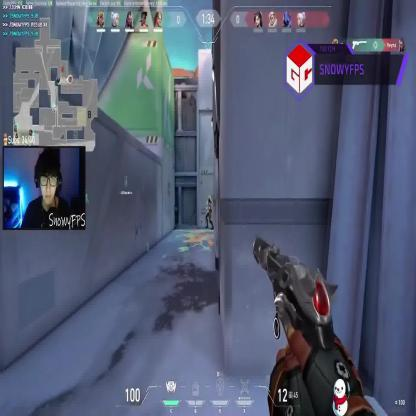enemy: (204, 194, 214, 230)
enemy_head: (208, 194, 210, 202)
